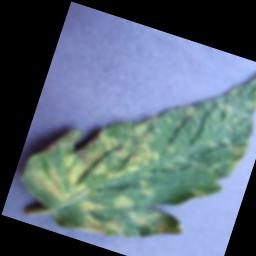Leaf_Mold: (9, 8, 256, 256)
